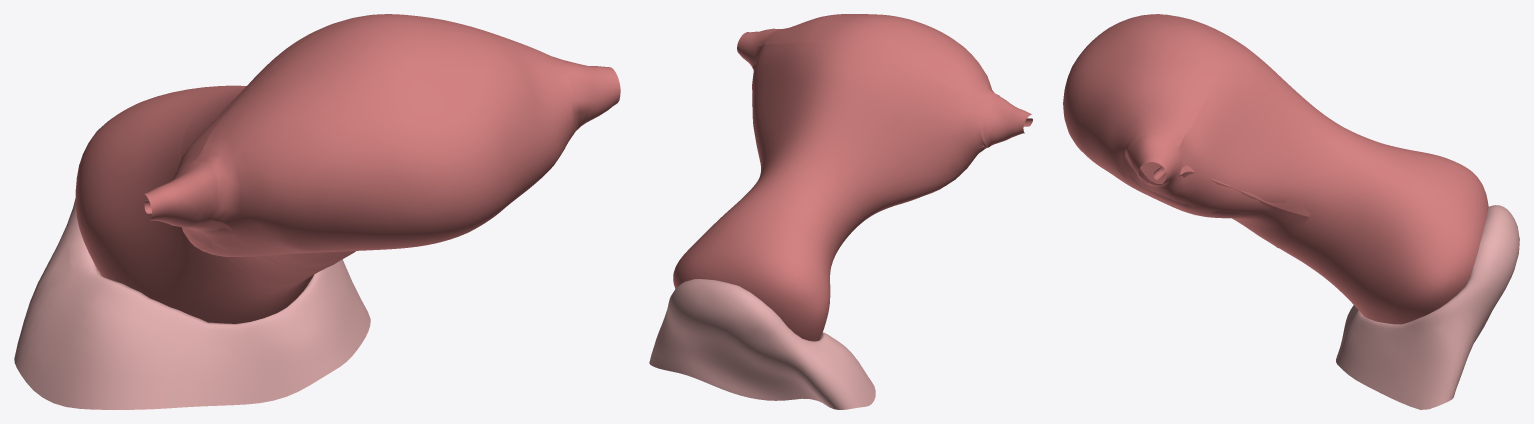
The model's file is 3d-vh-f-uterus.glb.
3 renders of one model, left to right at view 1: azimuth 30°, elevation 25°; view 2: azimuth 150°, elevation 25°; view 3: azimuth 270°, elevation 25°, orthographic. The views are drawn at different scales.
Visible parts, largest first — view 1: VH_F_fundus_of_uterus, VH_F_cervicovaginal_junction, VH_F_cervix, VH_F_cornua, VH_F_posterior_wall_of_uterus, VH_F_lower_uterine_segment, VH_F_body_of_uterus; view 2: VH_F_body_of_uterus, VH_F_cervicovaginal_junction, VH_F_cervix, VH_F_fundus_of_uterus, VH_F_lower_uterine_segment, VH_F_cornua; view 3: VH_F_cervix, VH_F_body_of_uterus, VH_F_fundus_of_uterus, VH_F_cervicovaginal_junction, VH_F_lower_uterine_segment, VH_F_posterior_wall_of_uterus, VH_F_cornua, VH_F_anterior_wall_of_uterus.
Part boxes in pixels (x1,y1,x2,y2): VH_F_fundus_of_uterus: (195,14,580,249); VH_F_cervicovaginal_junction: (14,198,370,409); VH_F_cervix: (75,85,314,323); VH_F_cornua: (144,58,620,228); VH_F_posterior_wall_of_uterus: (202,147,565,270); VH_F_lower_uterine_segment: (181,87,325,286); VH_F_body_of_uterus: (176,18,575,269); VH_F_body_of_uterus: (752,42,988,224); VH_F_cervicovaginal_junction: (649,279,875,409); VH_F_cervix: (673,190,837,341); VH_F_fundus_of_uterus: (758,14,994,104); VH_F_lower_uterine_segment: (746,162,861,253); VH_F_cornua: (737,28,1031,147); VH_F_cervix: (1314,143,1488,324); VH_F_body_of_uterus: (1140,30,1340,227); VH_F_fundus_of_uterus: (1063,14,1223,188); VH_F_cervicovaginal_junction: (1336,205,1519,409); VH_F_lower_uterine_segment: (1279,125,1382,269); VH_F_posterior_wall_of_uterus: (1086,155,1308,248); VH_F_cornua: (1126,14,1181,189); VH_F_anterior_wall_of_uterus: (1180,165,1310,216).
Size of the model in its own units: 0.0525 by 0.0508 by 0.0629.
